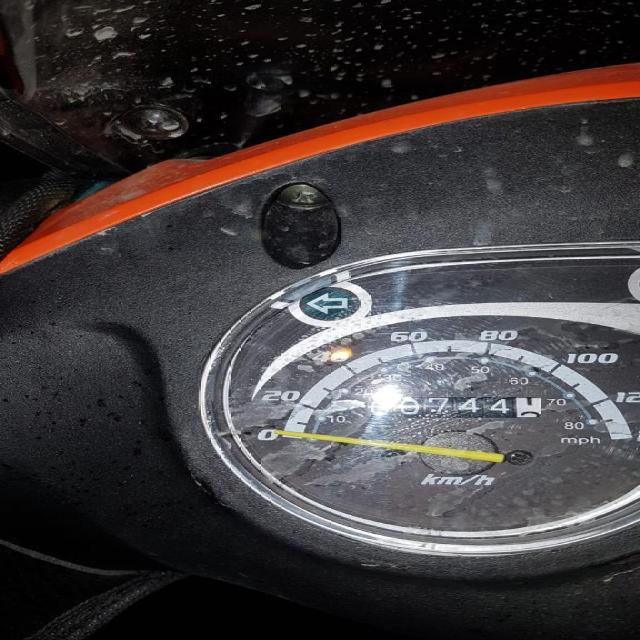odometer: (360, 395, 542, 418)
